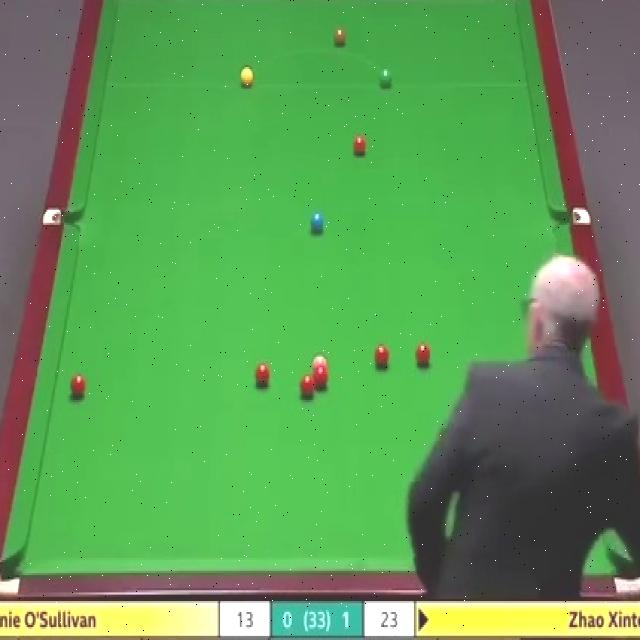blue-ball: (308, 211, 326, 234)
brown-ball: (333, 27, 346, 46)
green-ball: (378, 66, 392, 88)
pink-ball: (312, 353, 329, 372)
red-ball: (372, 341, 391, 372), (414, 339, 432, 368), (254, 363, 271, 388), (353, 134, 368, 160), (300, 375, 316, 399), (70, 374, 86, 397), (312, 370, 328, 388)
yellow-ball: (240, 68, 254, 88)
